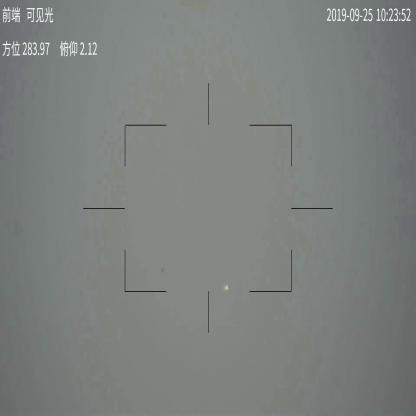uav: (222, 285, 230, 291)
